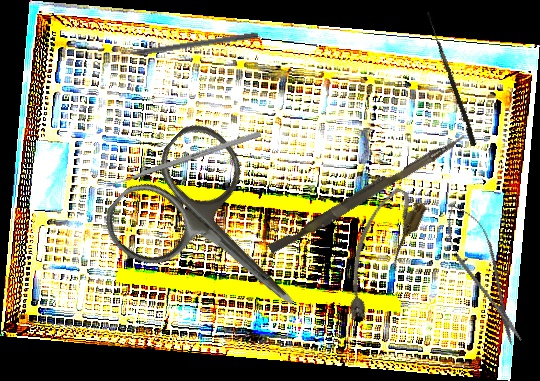Cannula: (326, 182, 430, 328)
Hook Surgical: (420, 11, 480, 147)
Iris Scissors: (93, 113, 343, 360)
Micro Scissor: (434, 197, 535, 351)
Pusher: (267, 126, 467, 260), (99, 130, 262, 192), (108, 30, 259, 60)
